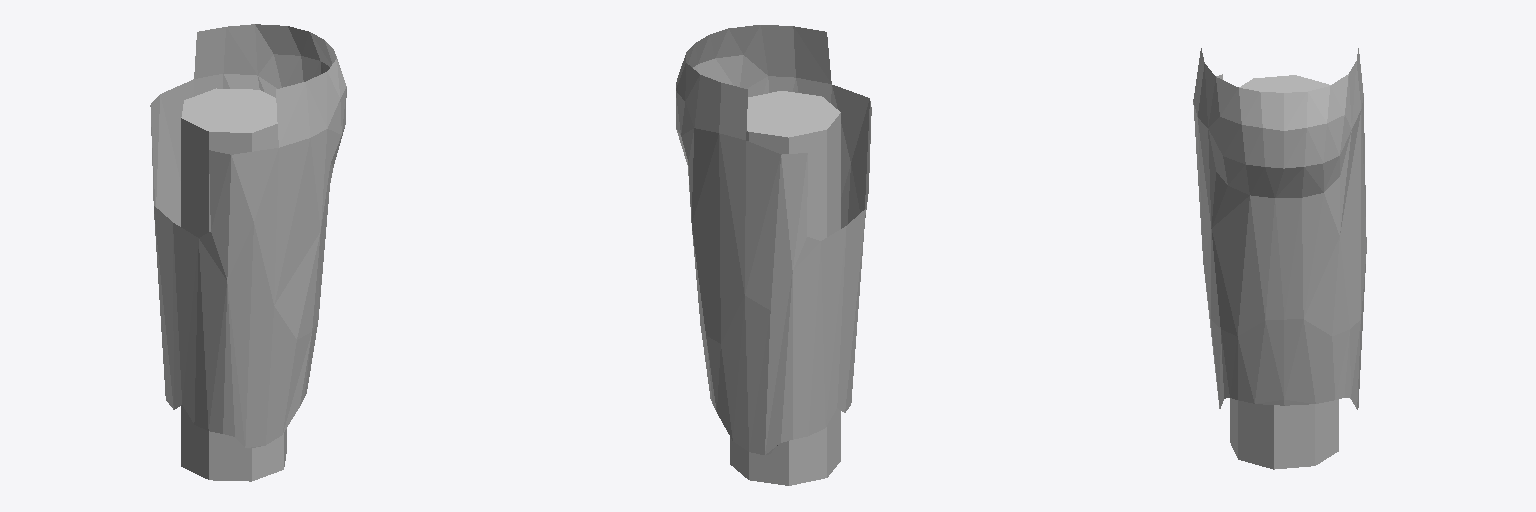
The model's file is icub_simple_collision_r_lower_leg.obj.
The picture shows the model from 3 angles: view 1: azimuth 30°, elevation 25°; view 2: azimuth 150°, elevation 25°; view 3: azimuth 270°, elevation 25°; orthographic projection.
Parts seen in each view (by area): view 1: r_shank_mesh_Cylinder.025; view 2: r_shank_mesh_Cylinder.025; view 3: r_shank_mesh_Cylinder.025.
Part boxes in pixels (x1,y1,x2,y2): r_shank_mesh_Cylinder.025: (150, 24, 346, 481); r_shank_mesh_Cylinder.025: (676, 25, 871, 485); r_shank_mesh_Cylinder.025: (1193, 48, 1366, 469).
Bounding box in the file's own units: 0.1035 × 0.2446 × 0.0961.